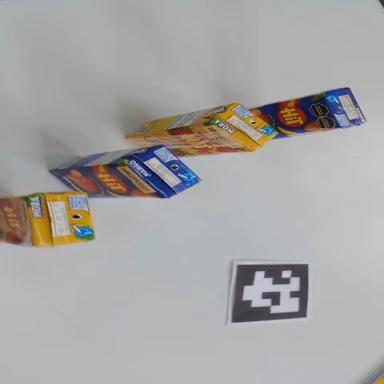HIT-MANGO: (51, 145, 199, 198), (250, 84, 366, 146)
HIT-MORA: (124, 100, 277, 160), (0, 191, 93, 248)
cara_F: (125, 119, 254, 162), (49, 162, 168, 199), (249, 92, 342, 139), (0, 197, 35, 246)
